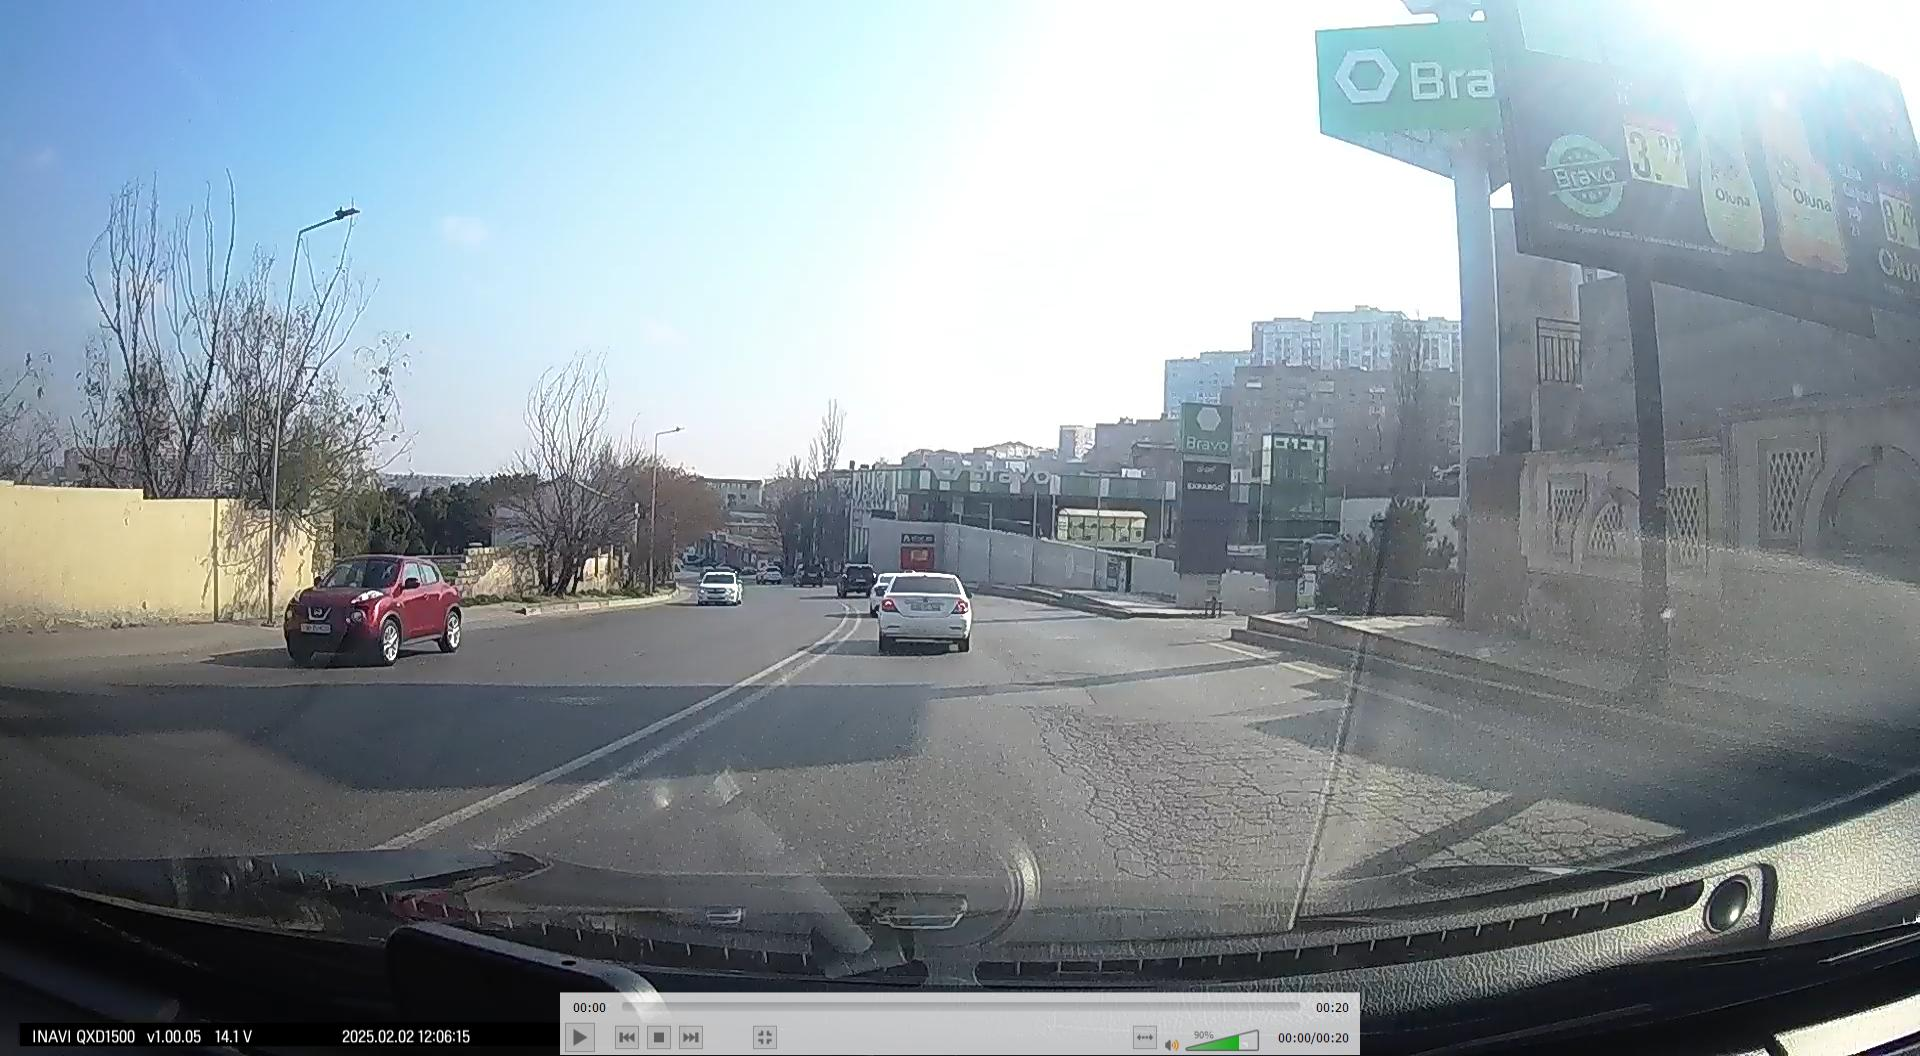banner: (1492, 2, 1920, 344)
